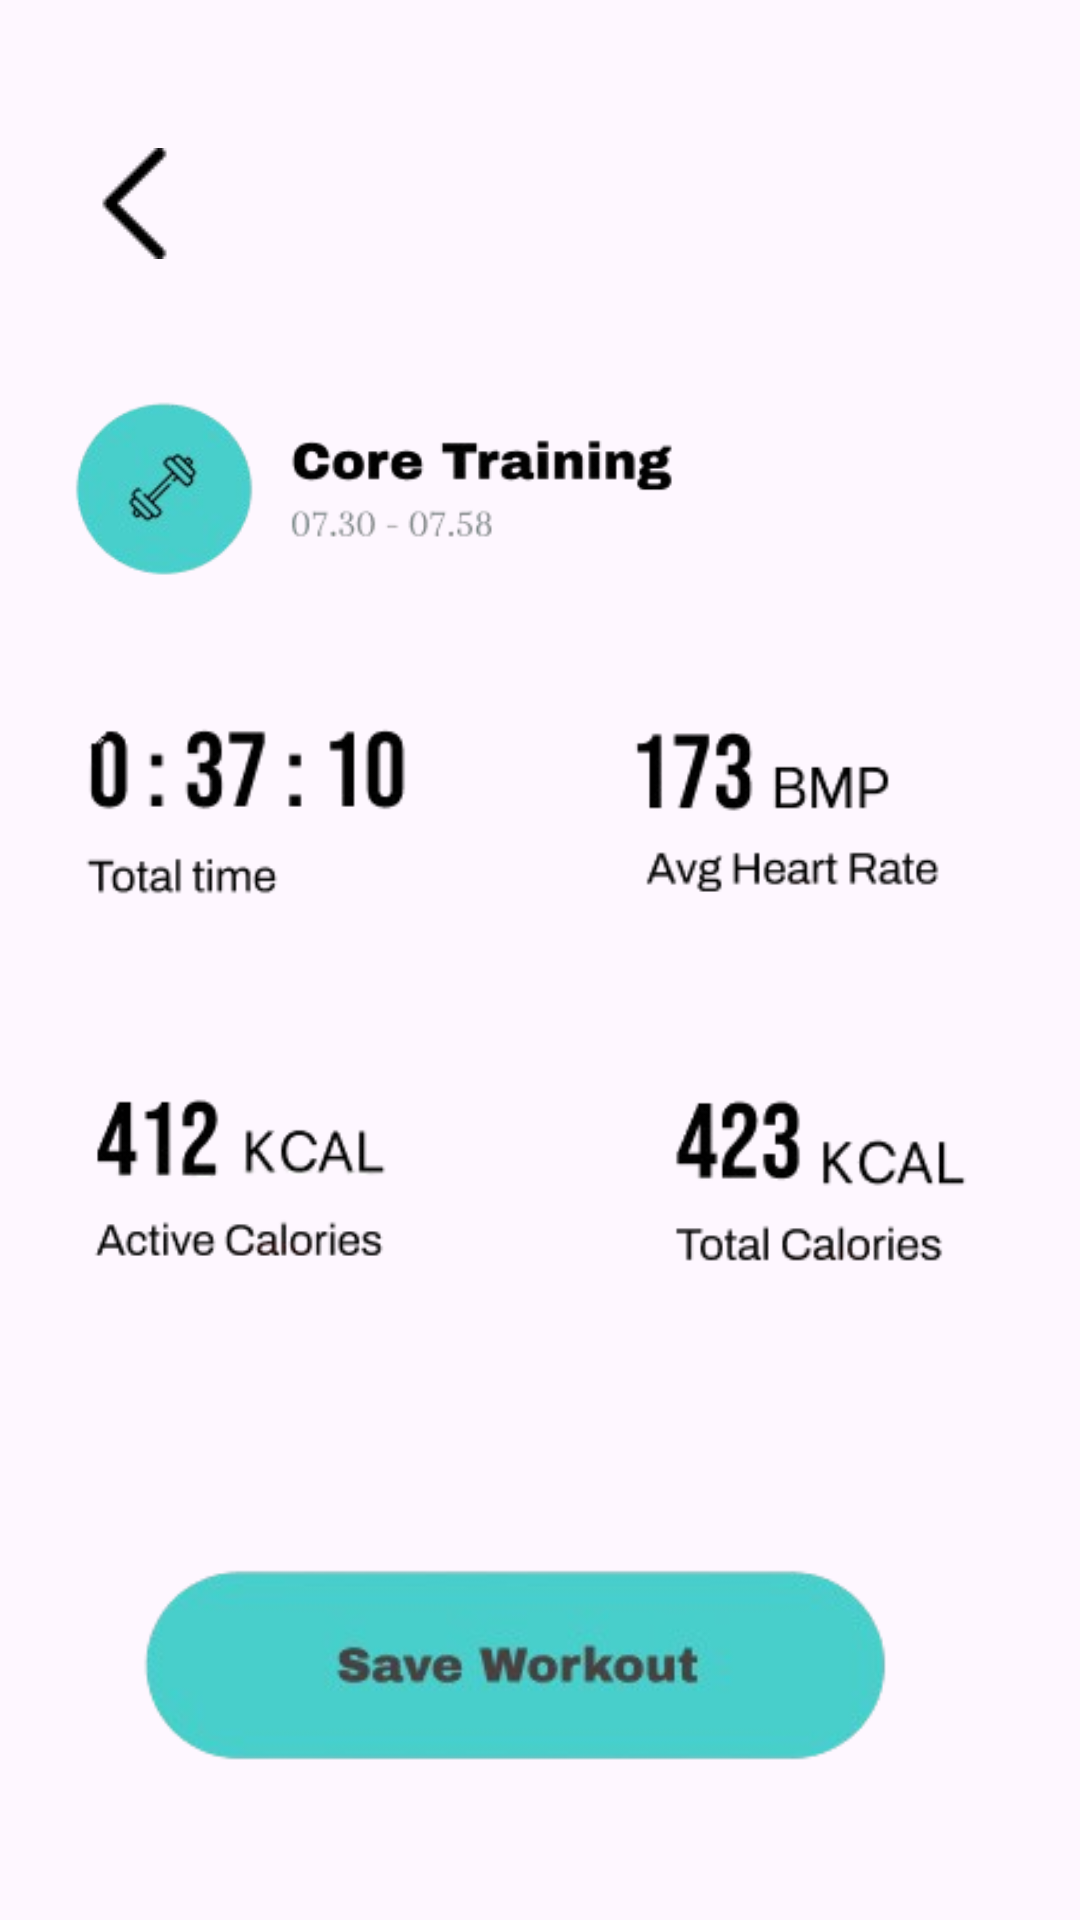

Where icons sit on this 1080×1920 app screen, as Rect(x1, y1, x2, y2):
iconback: Rect(102, 148, 167, 259)
